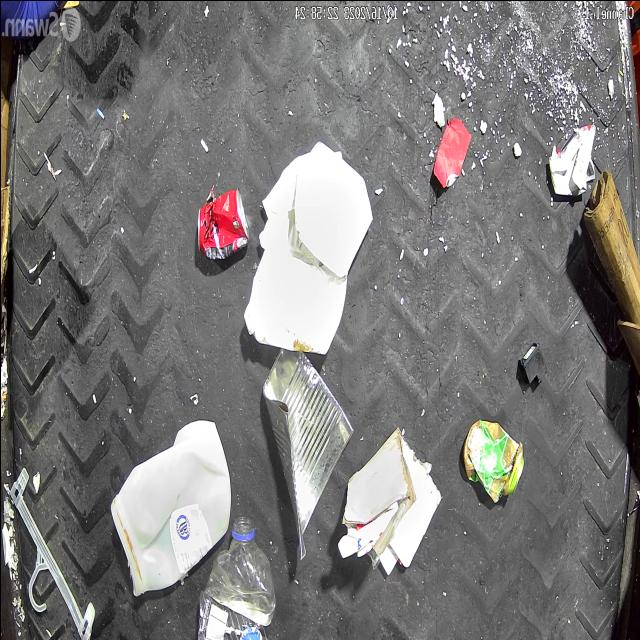can: (196, 187, 249, 261)
milk_jug: (110, 418, 232, 596)
plastic_bottle: (196, 512, 276, 640)
